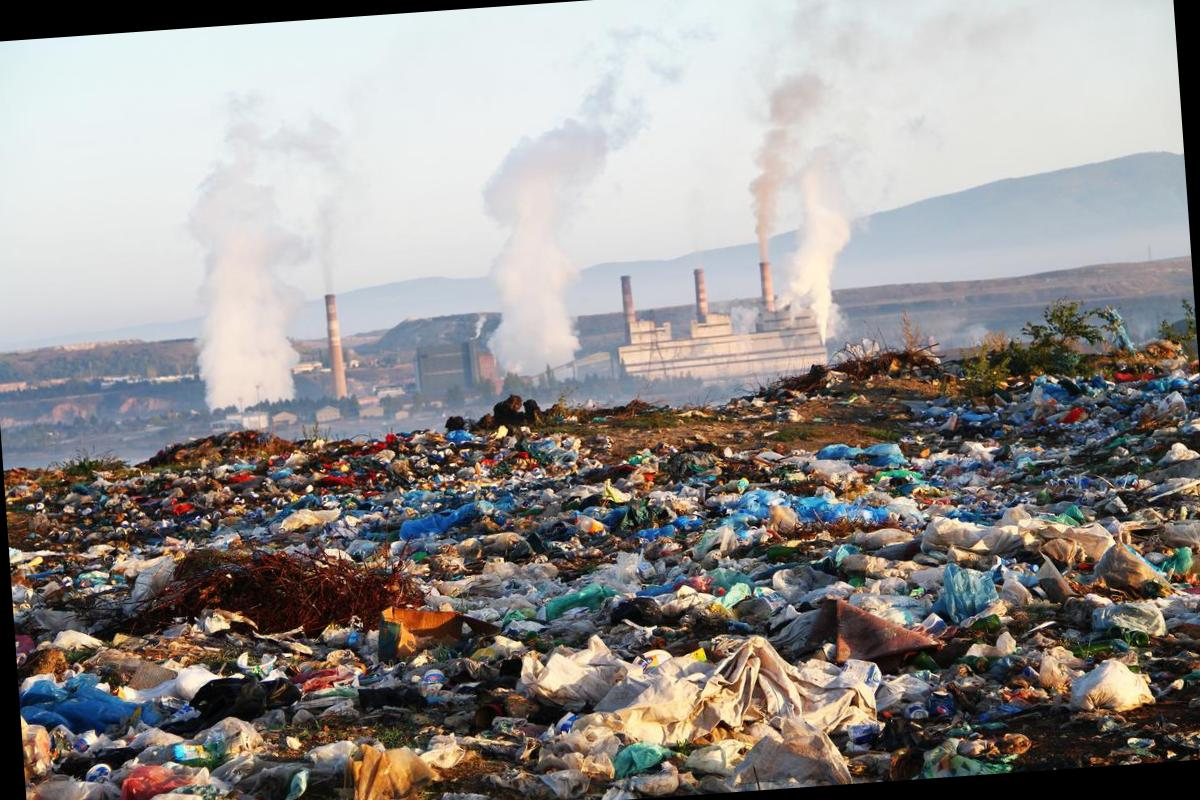sky: (0, 0, 1183, 343)
trash: (4, 367, 1200, 800)
